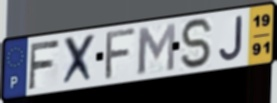F: (103, 26, 139, 82), (27, 37, 61, 92)
J: (218, 14, 245, 63)
M: (136, 21, 178, 76)
S: (179, 16, 216, 70)
X: (60, 31, 98, 89)
